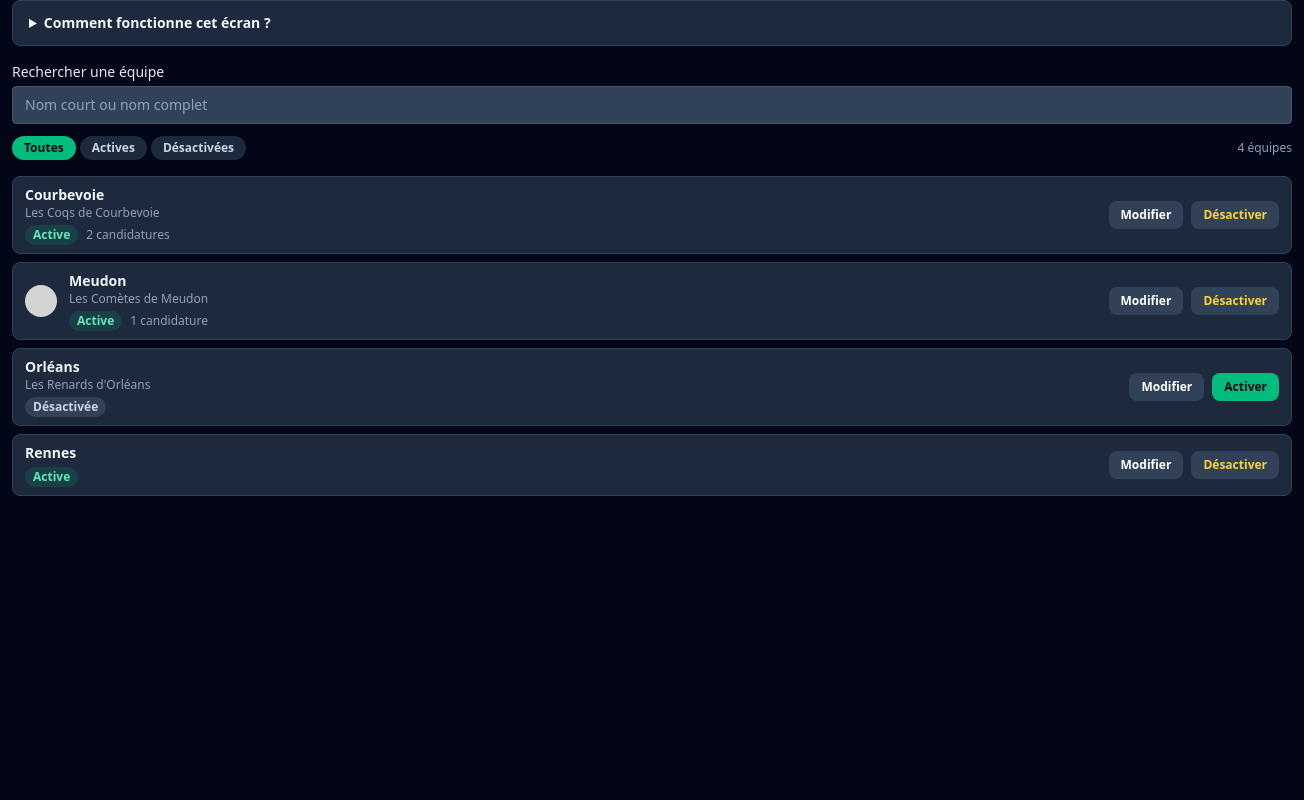
Test: GestionEquipesReferentiel — modification des noms (CA4, CA5) › n'édite qu'une équipe à la fois
The image size is (1304, 800).
Click the button with aria-label "Modifier Rennes" at (1146,465), box [1108, 451, 1183, 479]
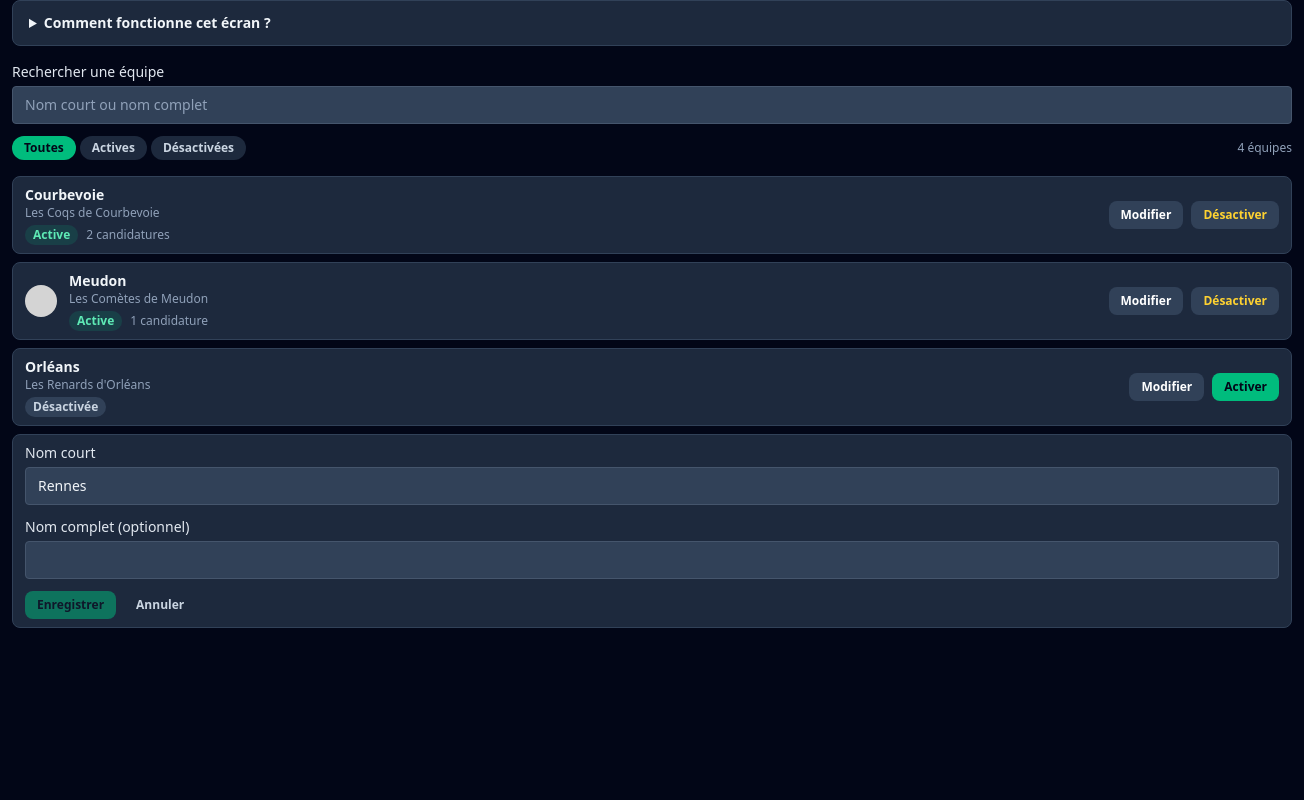
Result: the number of fields labelled "Nom court" is 1 at [25, 467, 1279, 505]
Click the button with aria-label "Modifier Meudon" at (1146,301), box [1108, 287, 1183, 315]
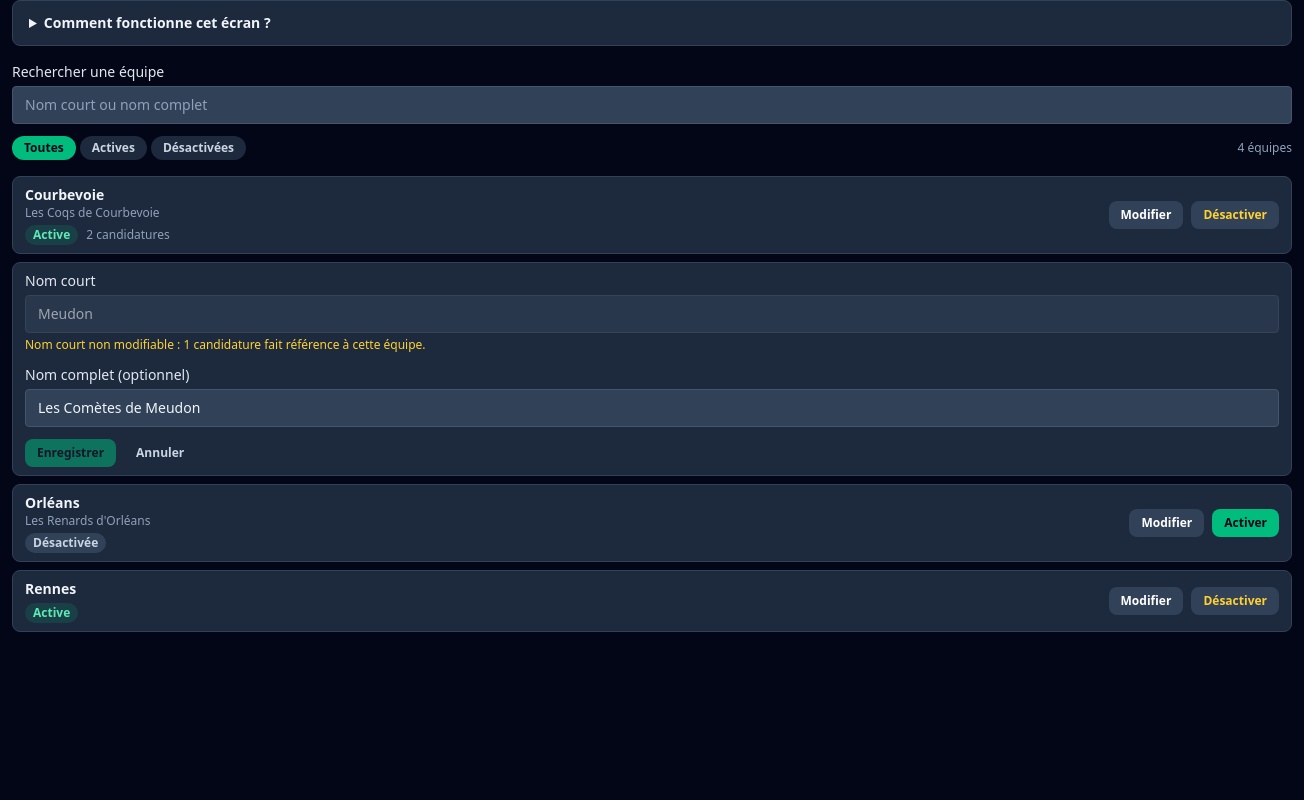
Result: the number of fields labelled "Nom court" is 1 at [25, 295, 1279, 333]
Result: the field labelled "Nom court" holds "Meudon" at [25, 295, 1279, 333]
Result: the button with aria-label "Modifier Rennes" is shown at [1108, 587, 1183, 615]
